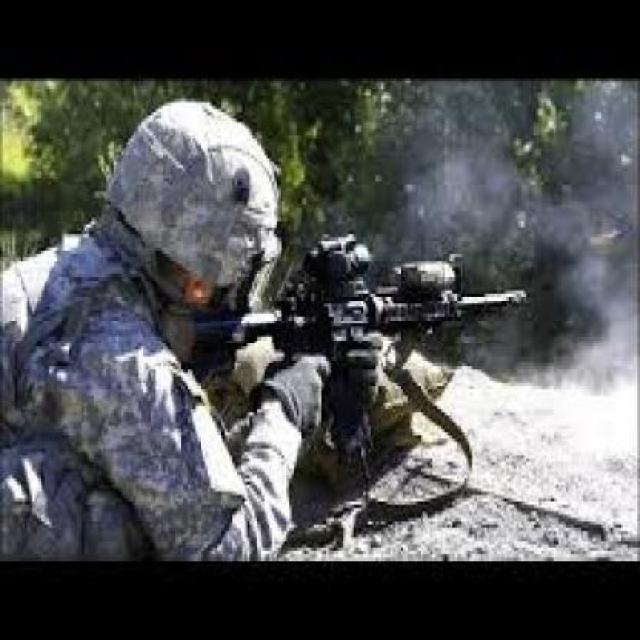weapon: (188, 217, 540, 474)
